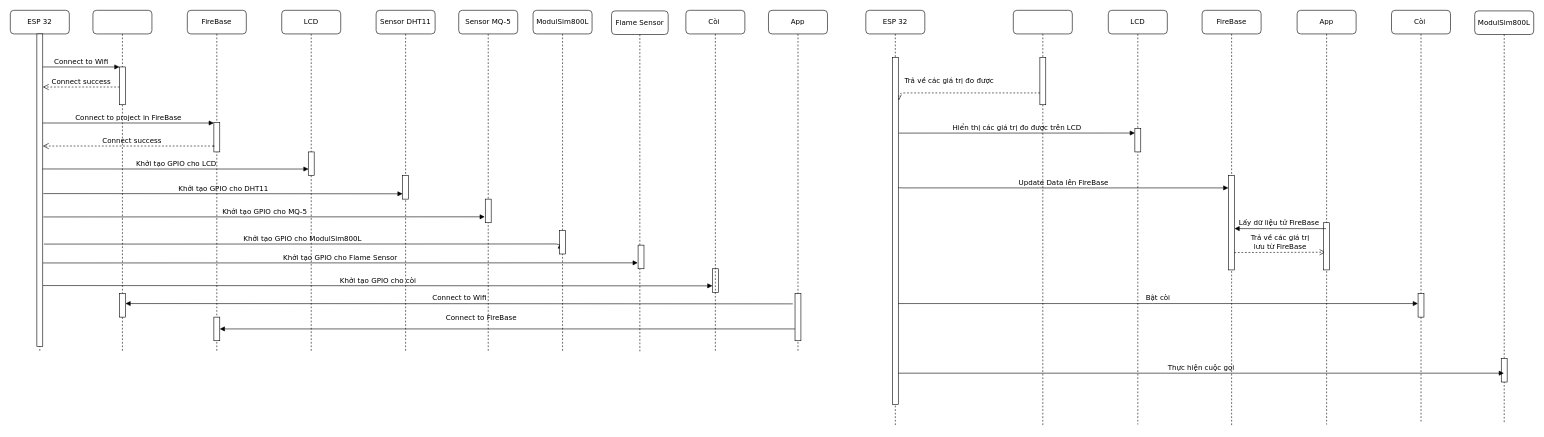
This 1544x437 diagram has some shape labels left out. The shapes that lost their labels are listed below. From the top down, each one's box as (x1, y1, x2, y2) in pixels, then its label:
(92, 10, 152, 353): Wifi
(1013, 10, 1072, 426): Sensor
